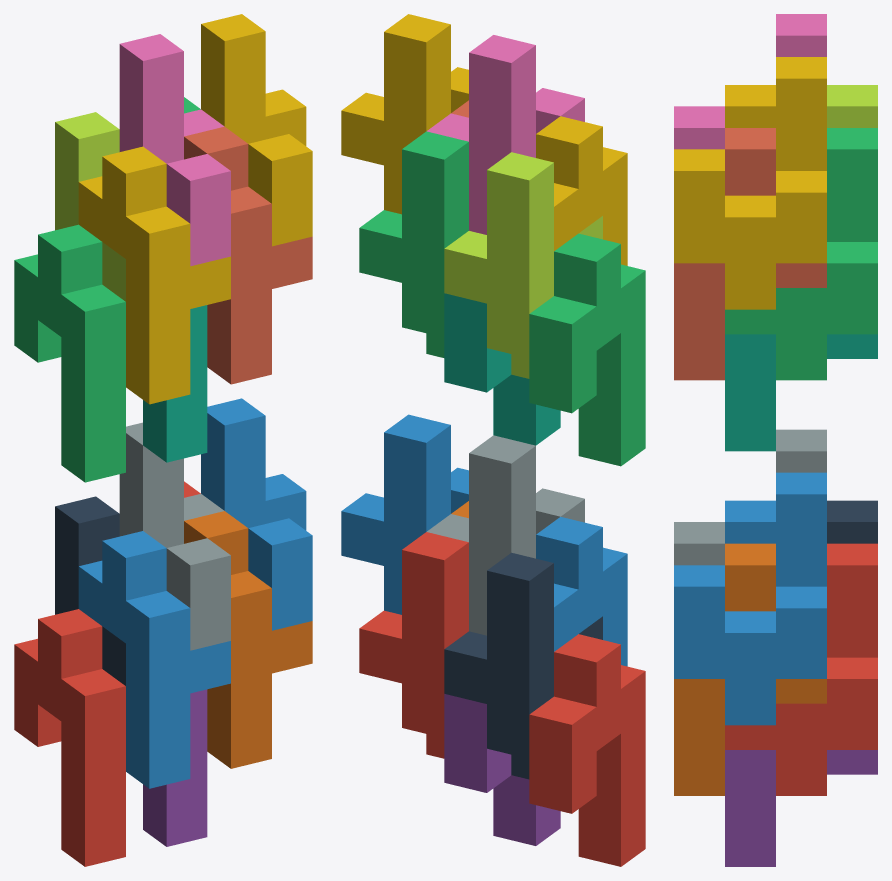
The model's file is tiling.obj.
The picture shows the model from 3 angles, left to right: view 1: azimuth 30°, elevation 25°; view 2: azimuth 150°, elevation 25°; view 3: azimuth 270°, elevation 25°; orthographic projection. The views are drawn at different scales.
Visible parts, largest first — view 1: copy_1_domain_4, copy_1_domain_2, copy_1_domain_1, copy_1_domain_3, copy_2_domain_8, copy_2_domain_6, copy_2_domain_4, copy_1_domain_8, copy_1_domain_6, copy_2_domain_2, copy_2_domain_1, copy_2_domain_3 (+2 smaller); view 2: copy_1_domain_3, copy_1_domain_1, copy_2_domain_1, copy_2_domain_3, copy_2_domain_5, copy_2_domain_7, copy_2_domain_6, copy_2_domain_8, copy_2_domain_2, copy_2_domain_4, copy_1_domain_2, copy_1_domain_4 (+2 smaller); view 3: copy_2_domain_8, copy_2_domain_6, copy_2_domain_7, copy_2_domain_5, copy_1_domain_6, copy_1_domain_8, copy_1_domain_7, copy_1_domain_5, copy_2_domain_2, copy_2_domain_4, copy_1_domain_2, copy_2_domain_1 (+2 smaller).
Part boxes in pixels (x1,y1,x2,y2): copy_1_domain_4: (78, 146, 230, 404); copy_1_domain_2: (78, 531, 230, 788); copy_1_domain_1: (14, 609, 125, 866); copy_1_domain_3: (14, 224, 125, 482); copy_2_domain_8: (201, 14, 312, 246); copy_2_domain_6: (201, 398, 312, 630); copy_2_domain_4: (119, 34, 230, 266); copy_1_domain_8: (184, 126, 312, 384); copy_1_domain_6: (184, 511, 312, 768); copy_2_domain_2: (119, 422, 230, 650); copy_2_domain_1: (55, 496, 125, 685); copy_2_domain_3: (55, 112, 125, 301); copy_1_domain_3: (529, 233, 645, 466); copy_1_domain_1: (529, 634, 645, 866); copy_2_domain_1: (444, 552, 602, 779); copy_2_domain_3: (444, 152, 602, 378); copy_2_domain_5: (359, 532, 468, 758); copy_2_domain_7: (359, 131, 468, 357); copy_2_domain_6: (341, 414, 468, 614); copy_2_domain_8: (341, 14, 468, 214); copy_2_domain_2: (427, 435, 584, 635); copy_2_domain_4: (427, 35, 584, 234); copy_1_domain_2: (536, 516, 627, 666); copy_1_domain_4: (536, 116, 627, 265); copy_2_domain_8: (674, 57, 826, 309); copy_2_domain_6: (674, 472, 826, 725); copy_2_domain_7: (725, 128, 877, 380); copy_2_domain_5: (725, 543, 877, 795); copy_1_domain_6: (674, 543, 826, 795); copy_1_domain_8: (674, 128, 826, 380); copy_1_domain_7: (725, 334, 877, 451); copy_1_domain_5: (725, 750, 877, 866); copy_2_domain_2: (674, 429, 826, 565); copy_2_domain_4: (674, 14, 826, 149); copy_1_domain_2: (725, 500, 775, 543); copy_2_domain_1: (827, 500, 877, 543).
Bounding box in the file's own units: 6 × 18 × 4.
